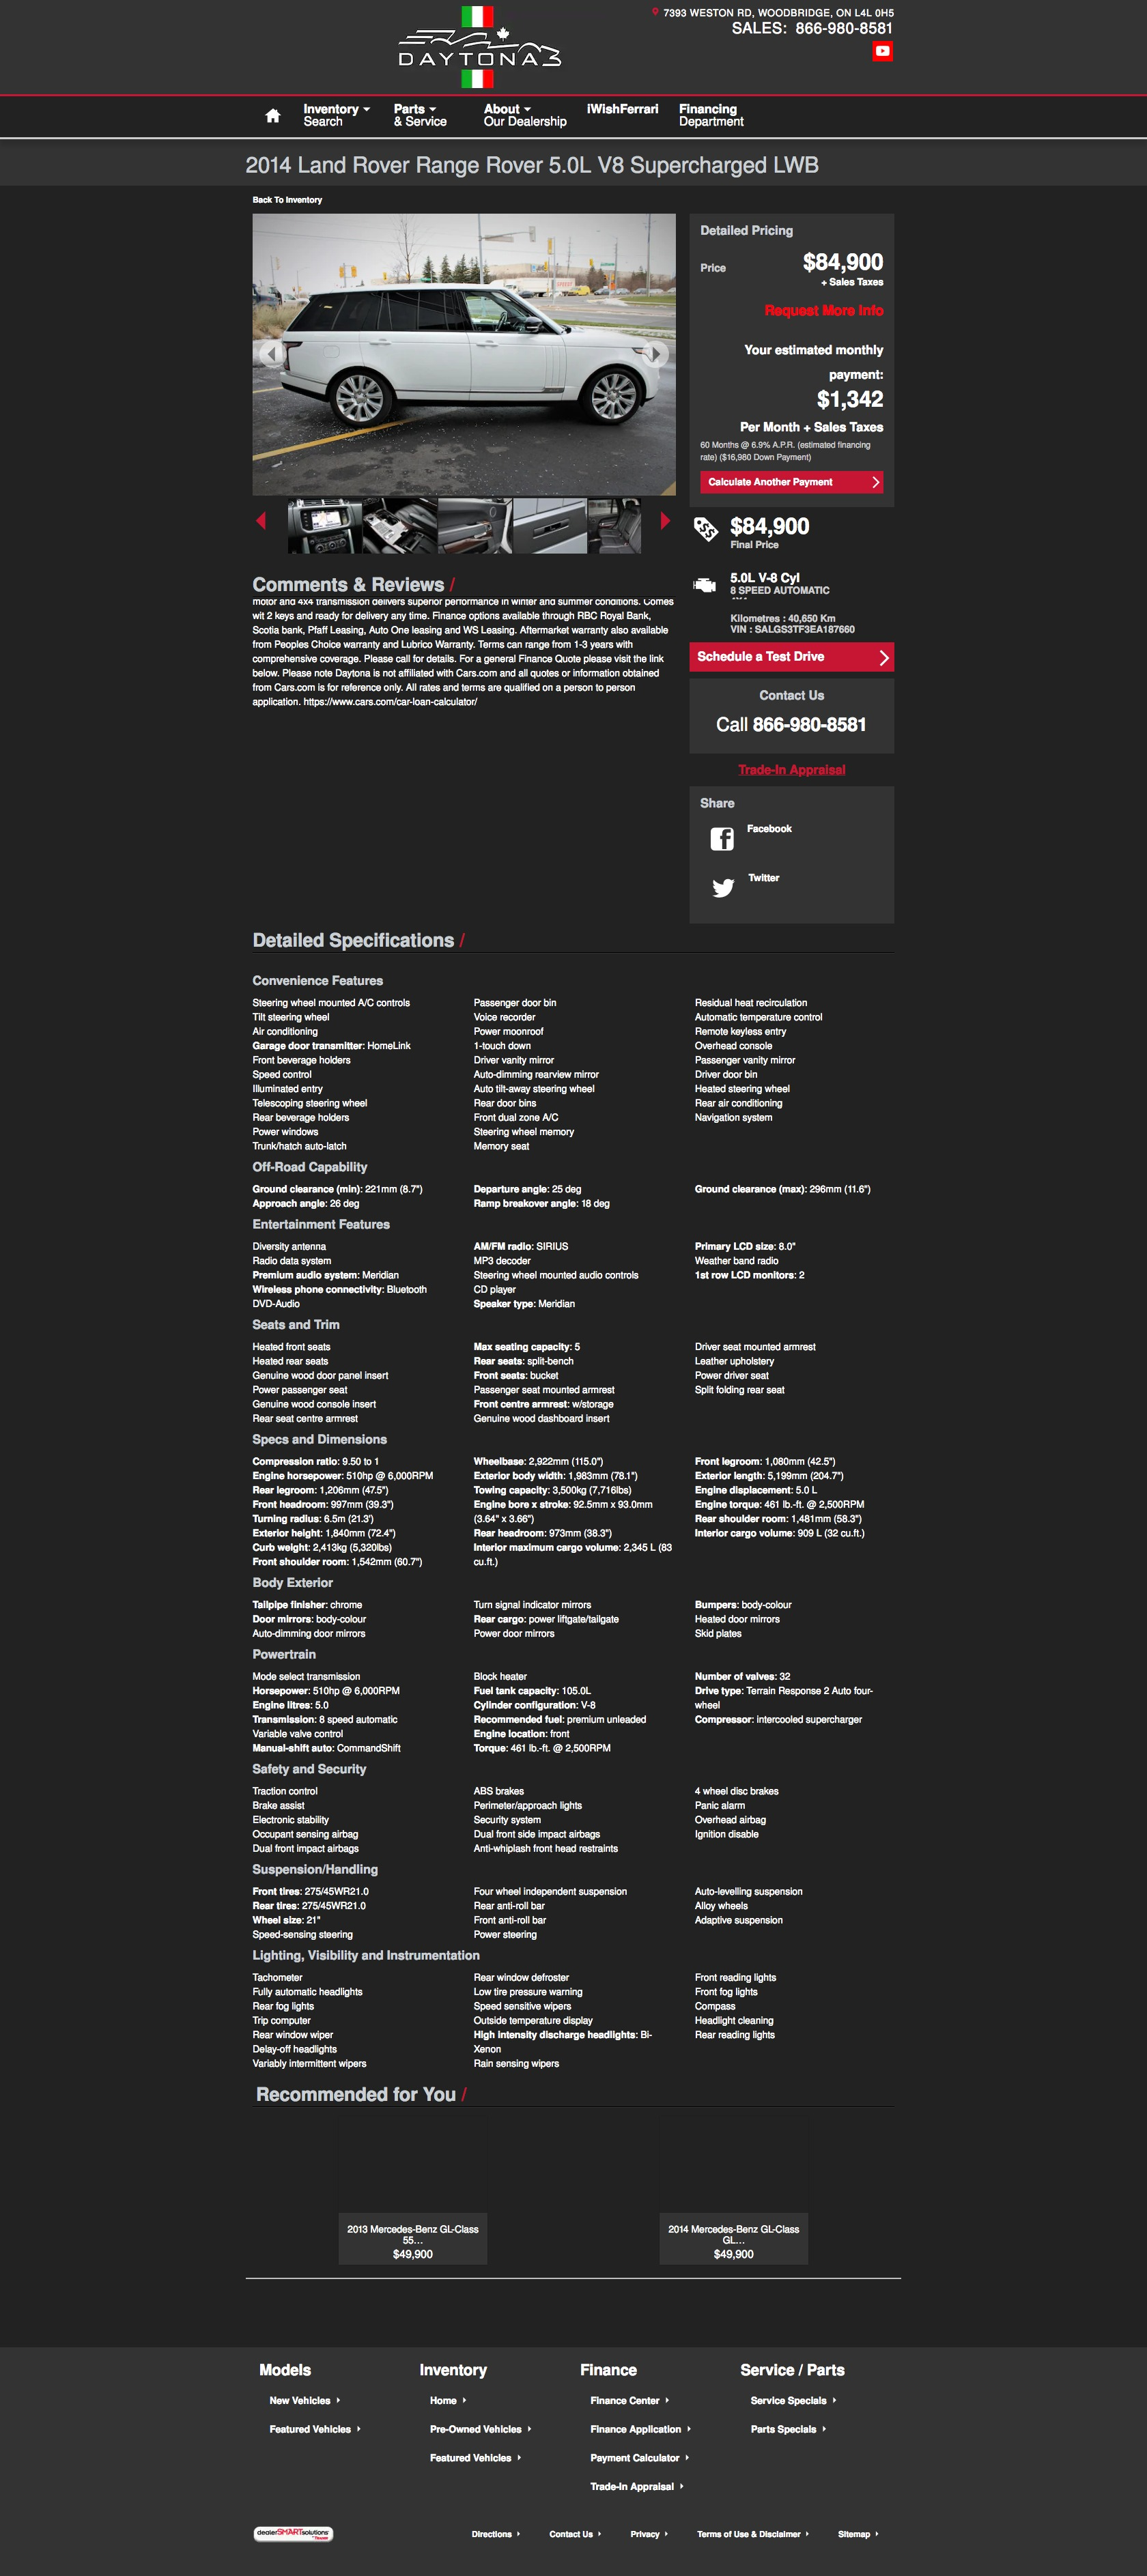car: (661, 511, 672, 532)
